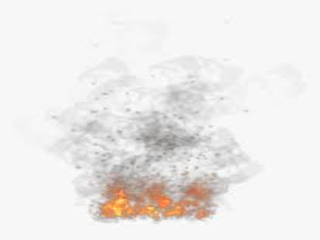fire: (97, 186, 217, 227)
